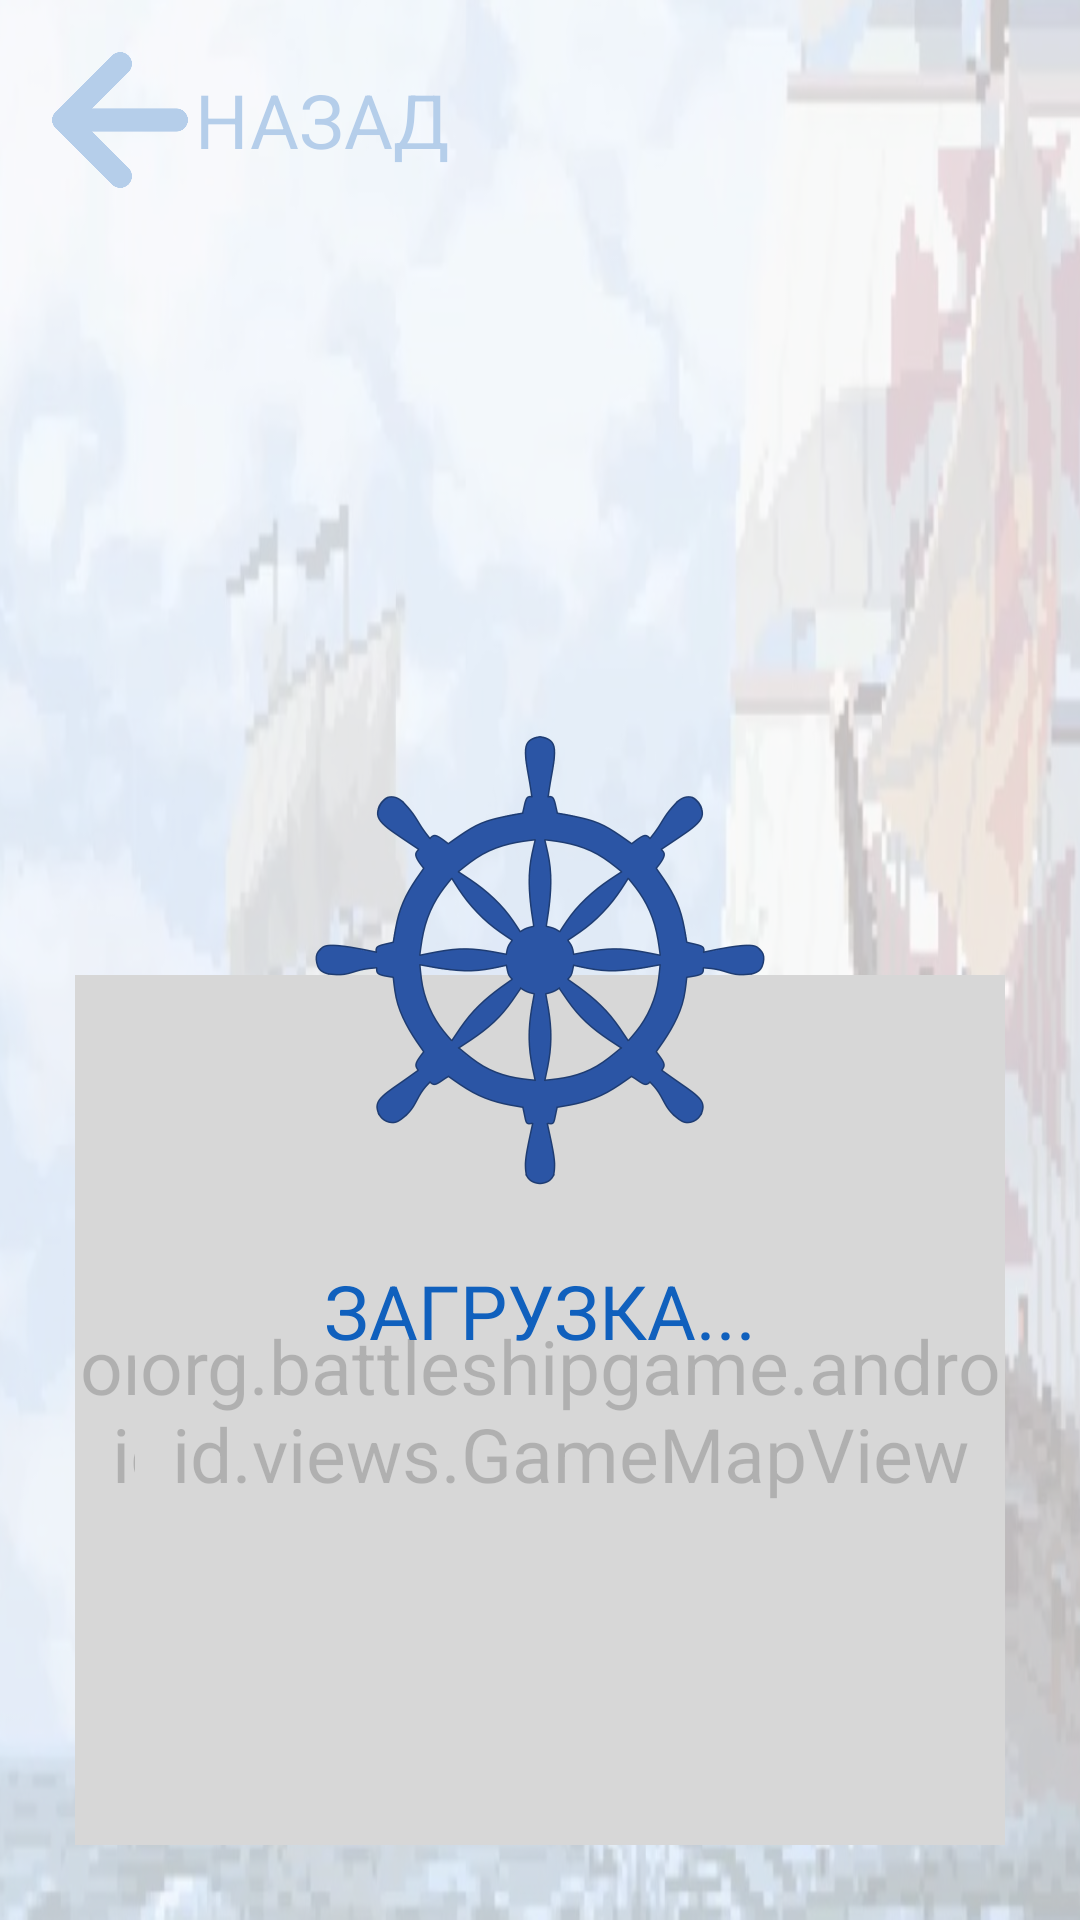

Screen size 1080px x 1920px. Icon name, then its center in pixels as point (x, y):
arrow back: point (120, 120)
